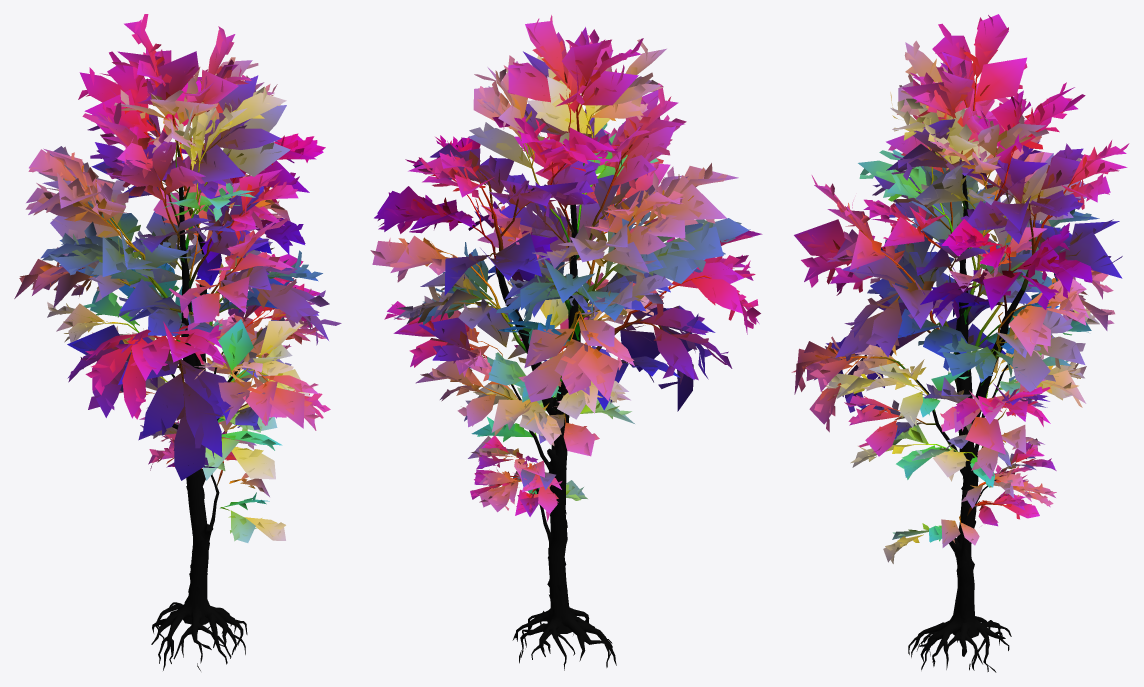
The model's file is SM_EuropeanBeech_XL_01.fbx.
3 renders of one model, left to right at view 1: azimuth 30°, elevation 25°; view 2: azimuth 150°, elevation 25°; view 3: azimuth 270°, elevation 25°, orthographic. The views are drawn at different scales.
Parts seen in each view (by area): view 1: SM_EuropeanBeech_XL_01_LOD0; view 2: SM_EuropeanBeech_XL_01_LOD0; view 3: SM_EuropeanBeech_XL_01_LOD0.
Boxes of the visible parts, x1,y1,x2,y2 form: SM_EuropeanBeech_XL_01_LOD0: (14, 14, 341, 670); SM_EuropeanBeech_XL_01_LOD0: (370, 15, 762, 670); SM_EuropeanBeech_XL_01_LOD0: (791, 14, 1129, 672).
Size of what is drawn, in the model's own units: 1346 by 1312 by 2694.
